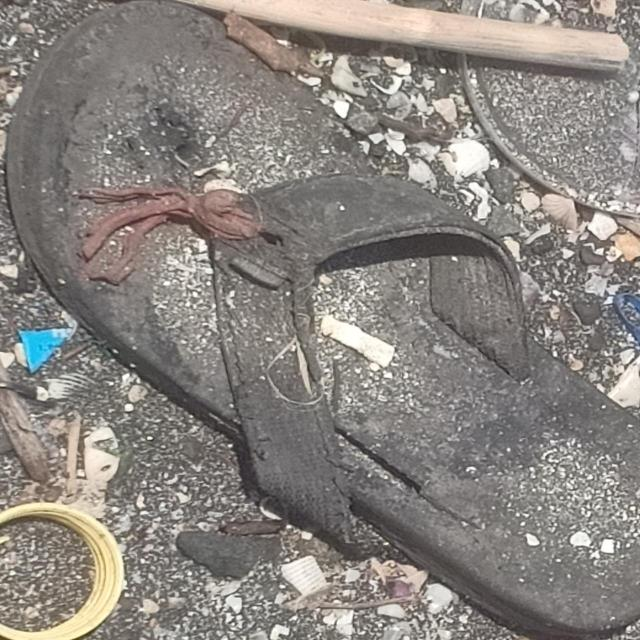plastic_waste: (4, 500, 130, 640)
rubber_waste: (1, 1, 640, 640)
